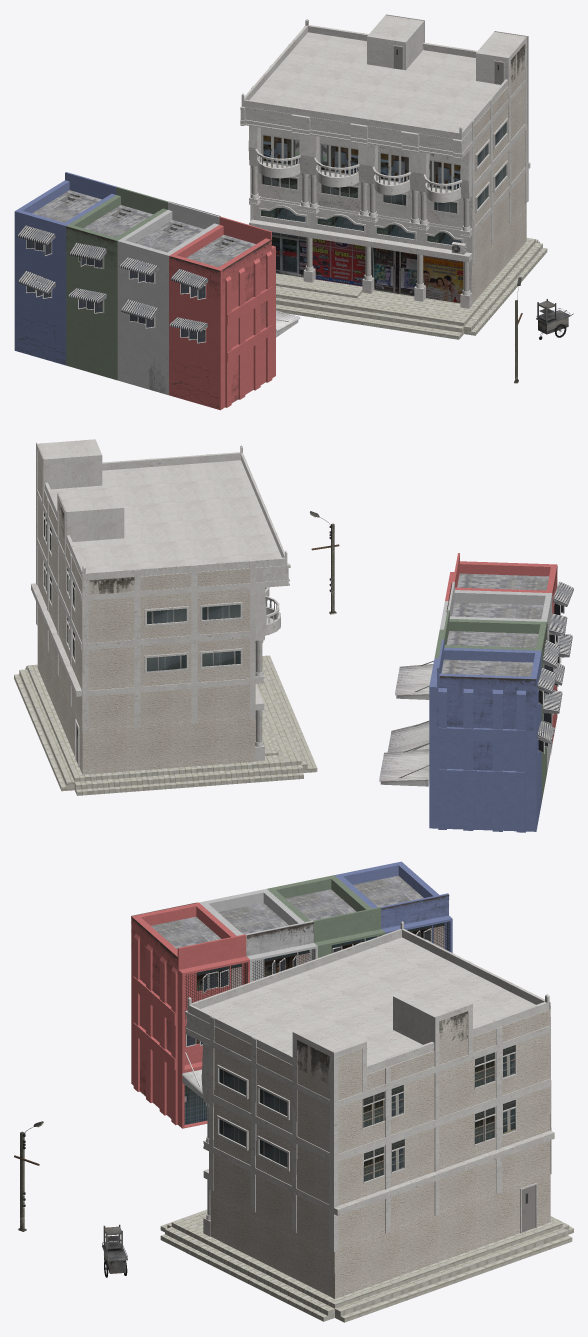
File: city1.glb
3 renders of one model, top to bottom at view 1: azimuth 30°, elevation 25°; view 2: azimuth 150°, elevation 25°; view 3: azimuth 270°, elevation 25°, orthographic. The views are drawn at different scales.
Parts seen in each view (by area): view 1: SM_COMBINED_HOUSE, SM_Hotel_House_WhiteWalls_0, SM_Hotel_House_WindowsDoors_0, SM_Hotel_House_Floor_0, SM_Hotel_House_DarkerWalls_0, SM_Hotel_House_Material #12_0, SM_Hotel_House_Pillars_0, SM_FoodCart; view 2: SM_Hotel_House_WhiteWalls_0, SM_COMBINED_HOUSE, SM_Hotel_House_DarkerWalls_0, SM_Hotel_House_Floor_0, SM_Hotel_House_WindowsDoors_0, SM_Hotel_House_Material #12_0, SM_StreetLight; view 3: SM_Hotel_House_DarkerWalls_0, SM_Hotel_House_WhiteWalls_0, SM_COMBINED_HOUSE, SM_Hotel_House_Floor_0, SM_Hotel_House_WindowsDoors_0, SM_FoodCart, SM_Hotel_House_Material #12_0, SM_StreetLight.
Boxes of the visible parts, box(x1,y1,x2,y2) form: SM_COMBINED_HOUSE: box(14, 172, 300, 410); SM_Hotel_House_WhiteWalls_0: box(240, 14, 530, 308); SM_Hotel_House_WindowsDoors_0: box(261, 46, 506, 303); SM_Hotel_House_Floor_0: box(276, 238, 547, 339); SM_Hotel_House_DarkerWalls_0: box(251, 43, 526, 303); SM_Hotel_House_Material #12_0: box(258, 44, 525, 209); SM_Hotel_House_Pillars_0: box(251, 169, 469, 291); SM_FoodCart: box(536, 299, 573, 339); SM_Hotel_House_WhiteWalls_0: box(31, 439, 290, 767); SM_COMBINED_HOUSE: box(379, 553, 573, 832); SM_Hotel_House_DarkerWalls_0: box(37, 444, 255, 774); SM_Hotel_House_Floor_0: box(14, 655, 317, 795); SM_Hotel_House_WindowsDoors_0: box(44, 513, 240, 763); SM_Hotel_House_Material #12_0: box(58, 501, 278, 623); SM_StreetLight: box(310, 511, 339, 614); SM_Hotel_House_DarkerWalls_0: box(210, 1010, 550, 1298); SM_Hotel_House_WhiteWalls_0: box(185, 921, 554, 1251); SM_COMBINED_HOUSE: box(131, 861, 452, 1128); SM_Hotel_House_Floor_0: box(160, 1209, 573, 1322); SM_Hotel_House_WindowsDoors_0: box(219, 1045, 535, 1232); SM_FoodCart: box(102, 1224, 127, 1277); SM_Hotel_House_Material #12_0: box(297, 1011, 467, 1083); SM_StreetLight: box(14, 1121, 43, 1231).
Size of the model in its own units: 3304 by 1350 by 2628.
Materials: 18 (18 with a texture image).
